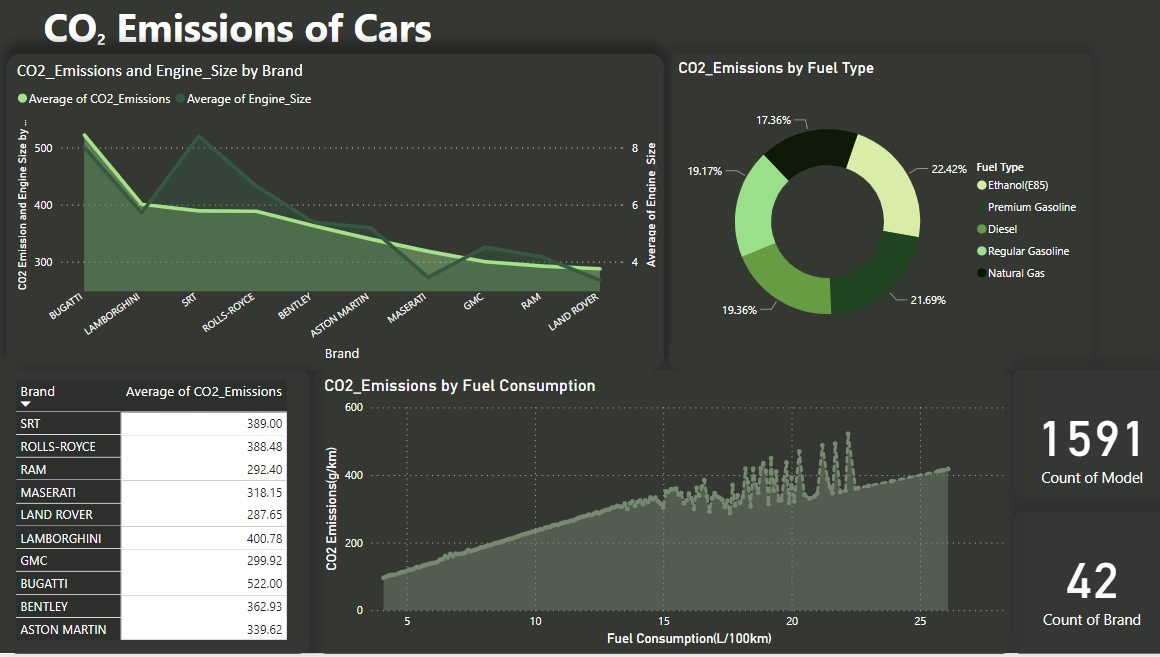

This screenshot's page, from the dashboard's own definition file:
{"tool":"powerbi","page":{"name":"Page 1","canvas":[1280,720],"ordinal":0},"visuals":[{"type":"textbox","box":[9.6,0,716.9,74.2],"z":0},{"type":"areaChart","title":"  CO2_Emissions by Fuel Consumption","fields":{"Category":["co2_emission.Fuel_Consumption_Comb"],"Y":["Avg(co2_emission.CO2_Emissions)"]},"box":[346,410.3,765.8,310.4],"z":1000},{"type":"donutChart","title":"CO2_Emissions by Fuel Type","fields":{"Category":["co2_emission.Fuel_Type"],"Y":["Avg(co2_emission.CO2_Emissions)"]},"box":[734.4,64.3,462.2,346],"z":2000},{"type":"areaChart","title":" CO2_Emissions and Engine_Size by Brand","fields":{"Category":["co2_emission.Brand"],"Y2":["Avg(co2_emission.Engine_Size)"],"Y":["Avg(co2_emission.CO2_Emissions)"]},"box":[9.6,64.3,719.3,346],"z":3000},{"type":"pivotTable","fields":{"Values":["Avg(co2_emission.CO2_Emissions)"],"Rows":["co2_emission.Brand"]},"box":[9.6,410.3,330.9,310.4],"z":4000},{"type":"card","fields":{"Values":["Count(co2_emission.Model)"]},"box":[1111.8,410.3,168.2,155.9],"z":5000},{"type":"card","fields":{"Values":["Count(co2_emission.Brand)"]},"box":[1111.8,566.2,168.2,154.5],"z":5001}]}

Visuals, with their boxes in screenshot pixels (x1, y1, x2, y2), scaled from the page's 1280x720 canvas onto the 1160x657 screenshot:
textbox: <bbox>9, 0, 658, 68</bbox>
"  CO2_Emissions by Fuel Consumption" areaChart: <bbox>314, 374, 1008, 656</bbox>
"CO2_Emissions by Fuel Type" donutChart: <bbox>666, 59, 1084, 374</bbox>
" CO2_Emissions and Engine_Size by Brand" areaChart: <bbox>9, 59, 661, 374</bbox>
pivotTable - Avg(co2_emission.CO2_Emissions) x co2_emission.Brand: <bbox>9, 374, 309, 656</bbox>
card - Count(co2_emission.Model): <bbox>1008, 374, 1159, 517</bbox>
card - Count(co2_emission.Brand): <bbox>1008, 517, 1159, 656</bbox>
